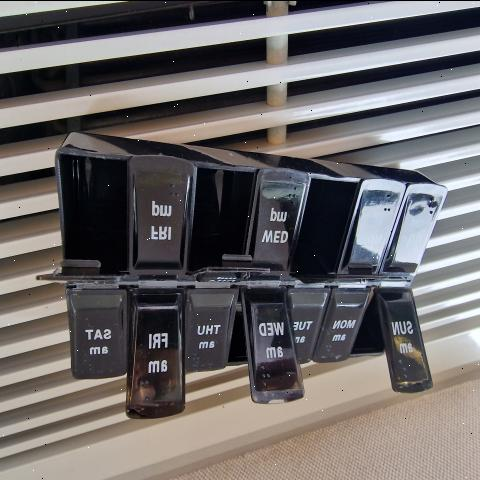Open: (35, 151, 132, 278), (190, 164, 266, 268), (290, 180, 356, 275), (222, 292, 255, 401), (353, 287, 384, 357)
